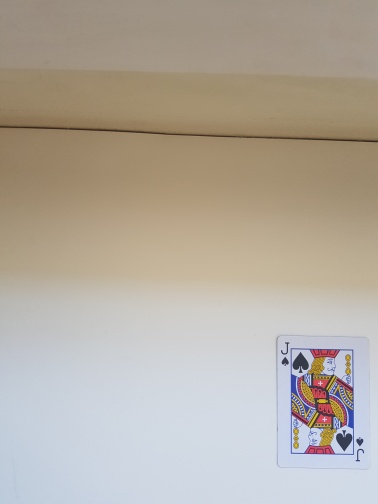jack: (275, 334, 371, 469)
